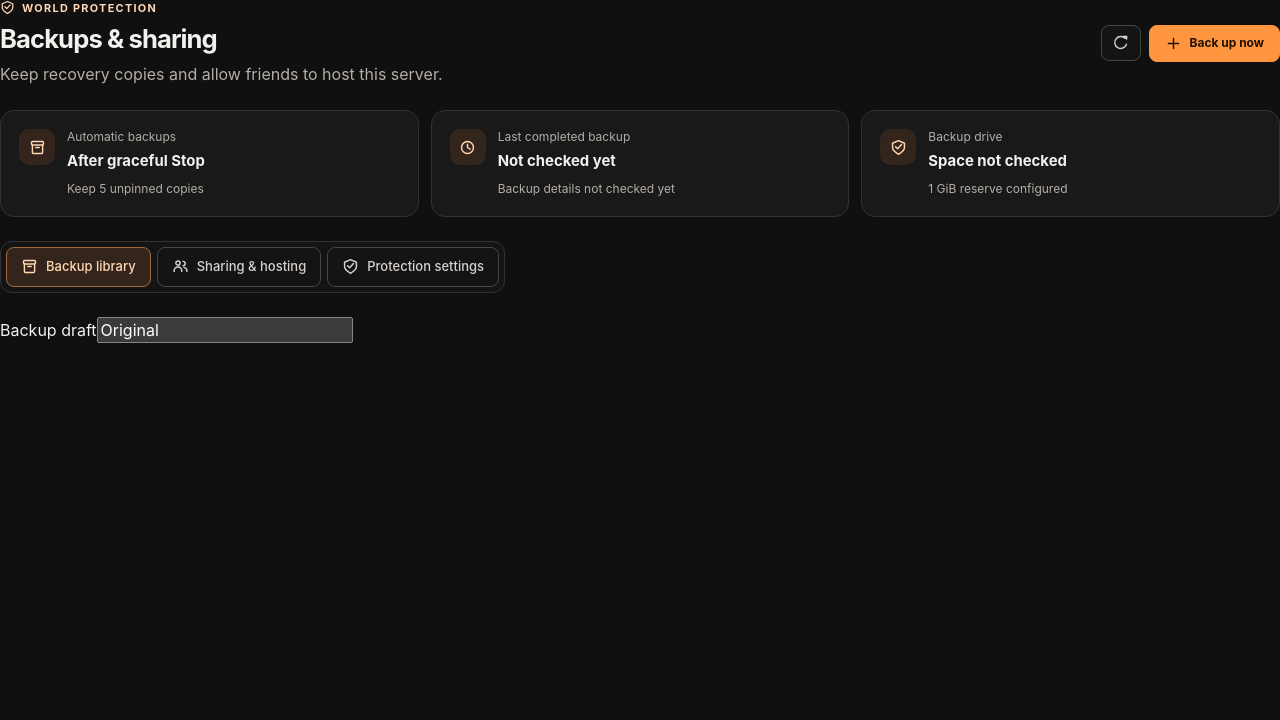
Test case: Host world protection workspace › keeps recovered-world automatic restart unavailable while allowing its backup policy to be edited
Click the button "Protection settings" at (413, 267), box x1=327 y1=247 x2=499 y2=287
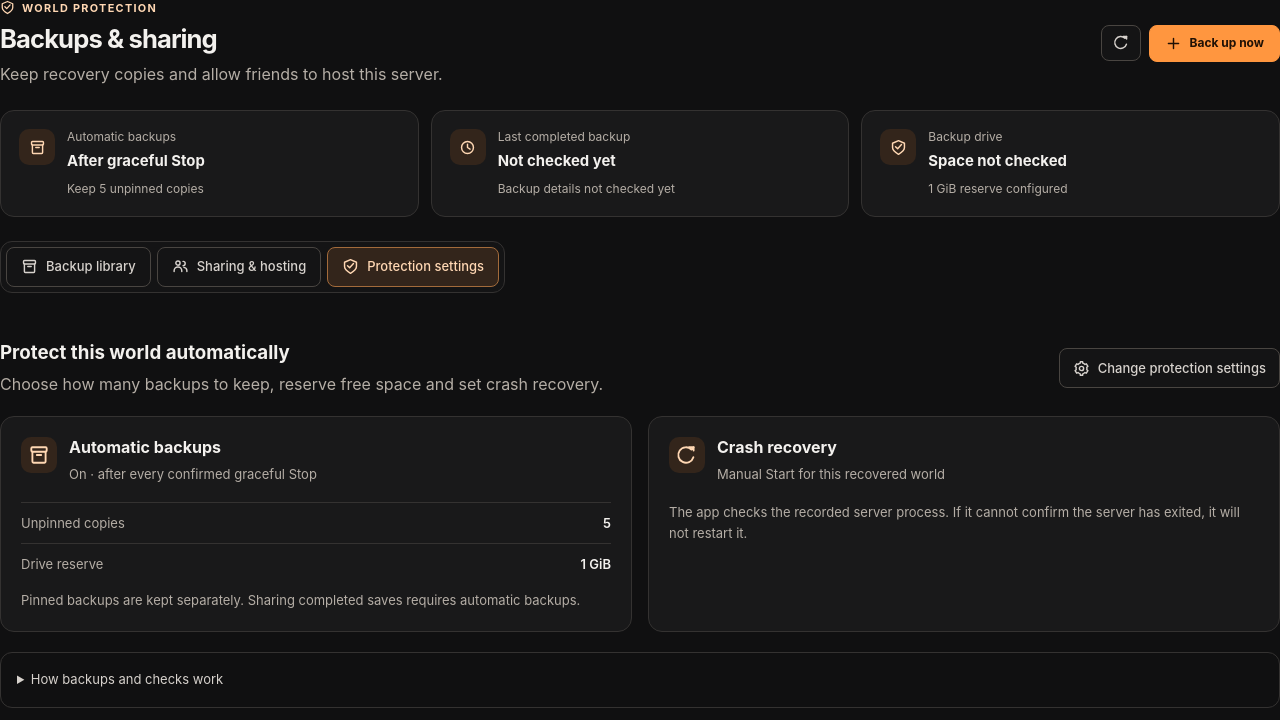
Click the button "Change protection settings" at (1169, 368), box x1=1059 y1=348 x2=1279 y2=388
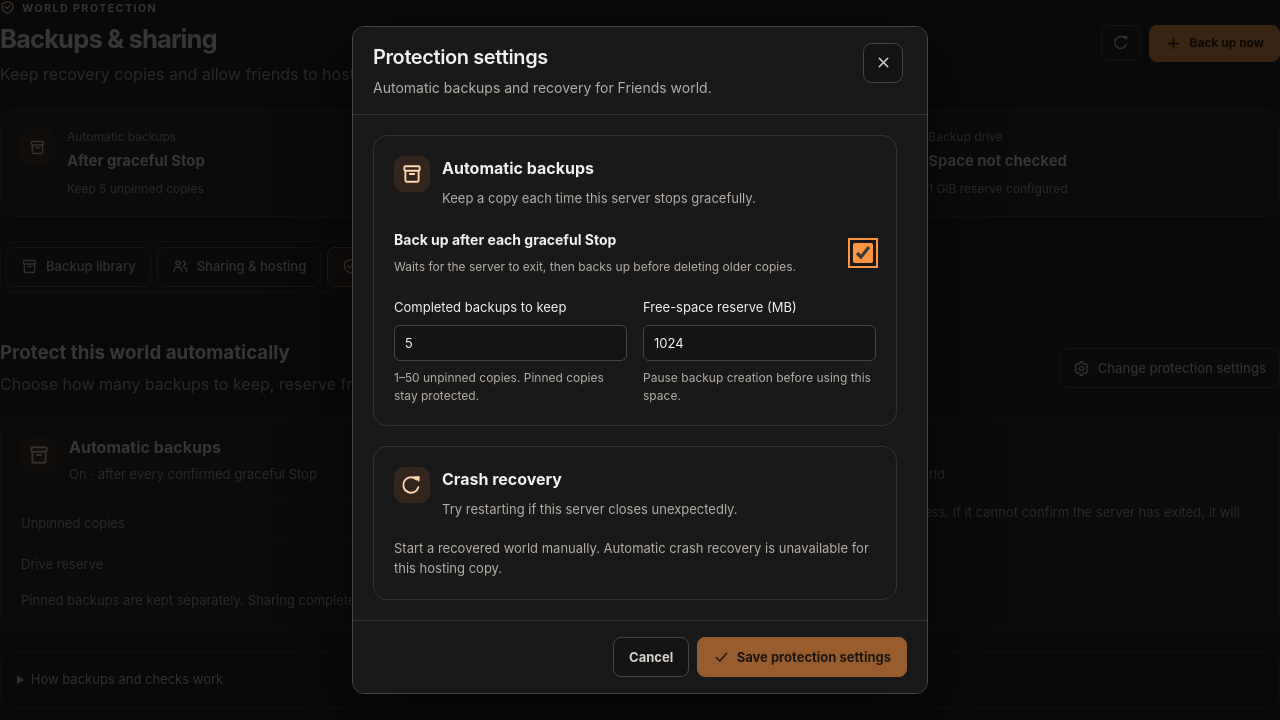
Check: the text "Start a recovered world manually" is shown, box x1=394 y1=540 x2=869 y2=576
Check: the number field labelled "Completed backups to keep" is enabled, box x1=394 y1=325 x2=627 y2=361
